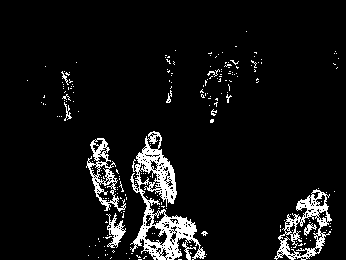person: (131, 130, 177, 251), (85, 136, 127, 248), (278, 189, 332, 260)
